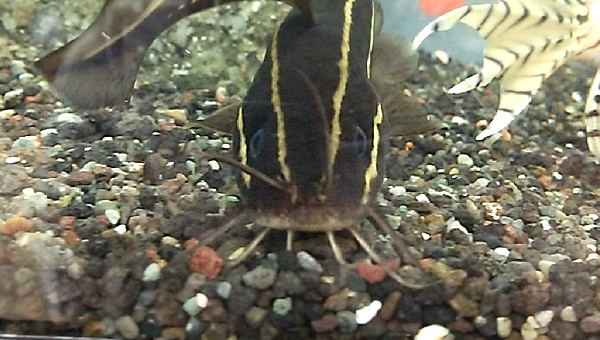gonzui: (42, 1, 413, 263)
